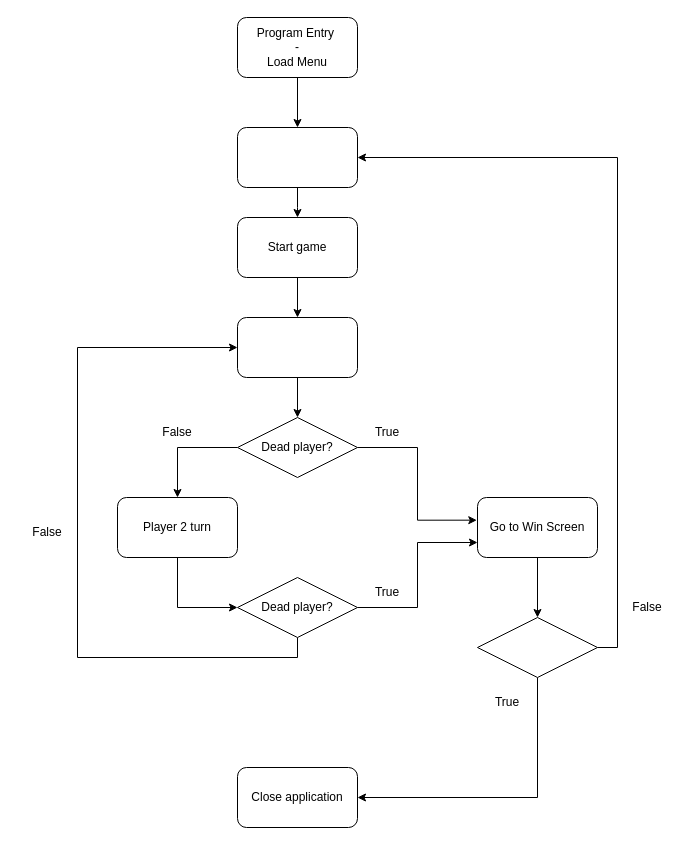
This 694x845 diagram has some shape labels left out. Each missing label, with the centre of its shape:
"Exit game?" belongs at (x=537, y=647).
"Player 1 turn" belongs at (x=297, y=347).
"Run menu" belongs at (x=297, y=157).
